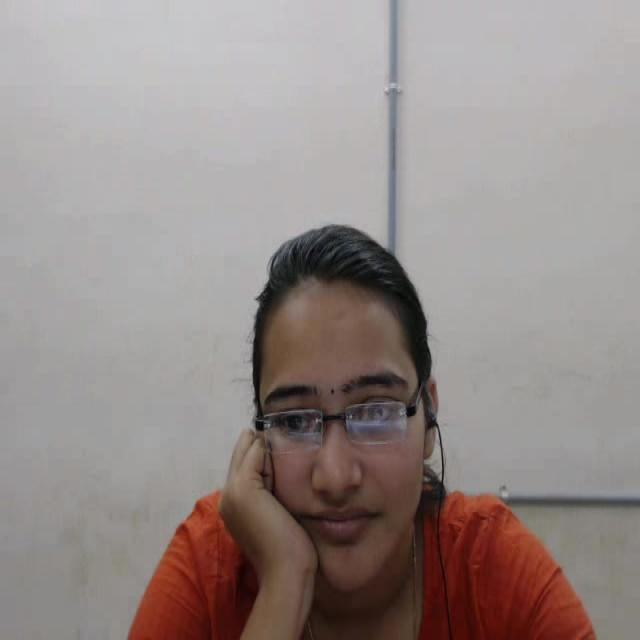Bored: (194, 203, 528, 640)
